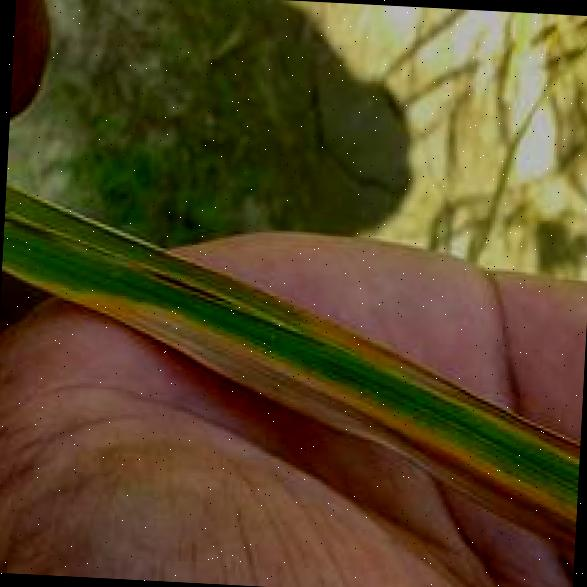Bacteria_Leaf_Blight: (26, 178, 532, 505)
